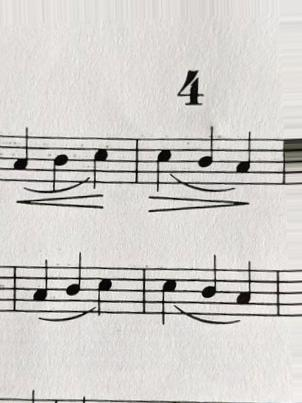note: (43, 134, 72, 198), (151, 131, 175, 194), (88, 132, 112, 193), (158, 261, 180, 327), (9, 124, 32, 185), (233, 130, 256, 190), (198, 252, 219, 317), (195, 125, 217, 186), (63, 250, 84, 313), (233, 261, 255, 320), (30, 255, 51, 316), (94, 263, 112, 321)
